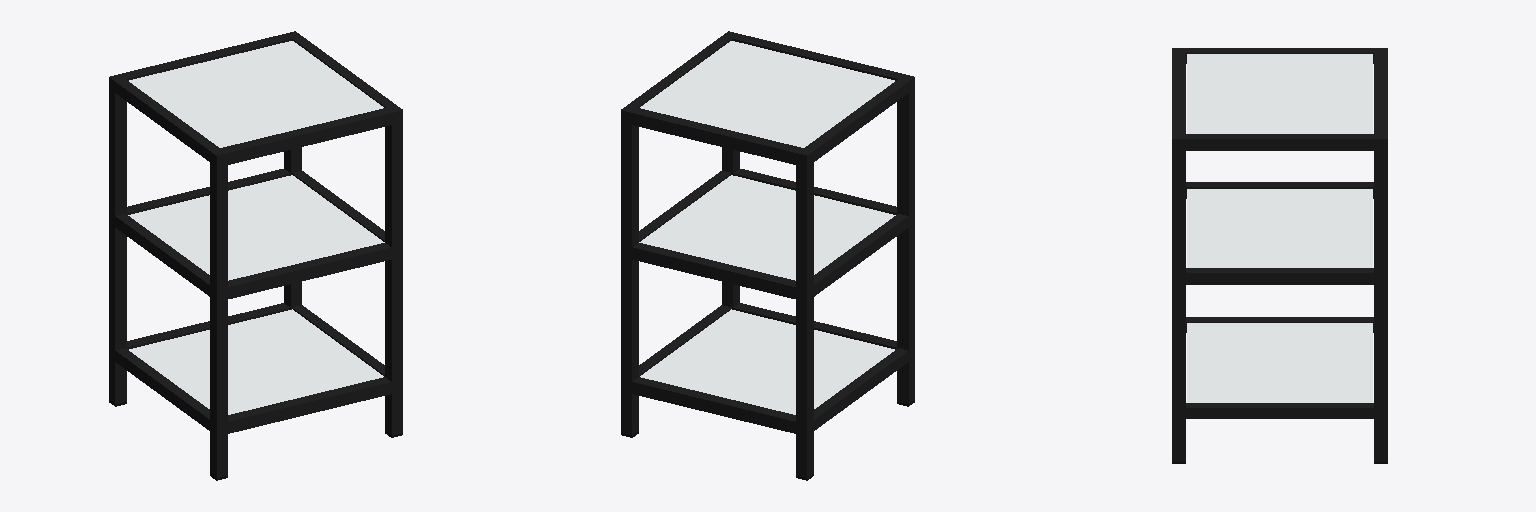
Rendered from mini_table.obj.
The picture shows the model from 3 angles: view 1: azimuth 30°, elevation 25°; view 2: azimuth 150°, elevation 25°; view 3: azimuth 270°, elevation 25°; orthographic projection.
Parts seen in each view (by area): view 1: Sanitary_Accessories_ODF-Paris_Mobile-side-table-3-shelves-Naut_; view 2: Sanitary_Accessories_ODF-Paris_Mobile-side-table-3-shelves-Naut_; view 3: Sanitary_Accessories_ODF-Paris_Mobile-side-table-3-shelves-Naut_.
Boxes of the visible parts, x1=… form: Sanitary_Accessories_ODF-Paris_Mobile-side-table-3-shelves-Naut_: x1=109, y1=31, x2=402, y2=480; Sanitary_Accessories_ODF-Paris_Mobile-side-table-3-shelves-Naut_: x1=621, y1=31, x2=914, y2=480; Sanitary_Accessories_ODF-Paris_Mobile-side-table-3-shelves-Naut_: x1=1172, y1=48, x2=1387, y2=463.
Bounding box in the file's own units: 1.25 × 2.07 × 1.25.